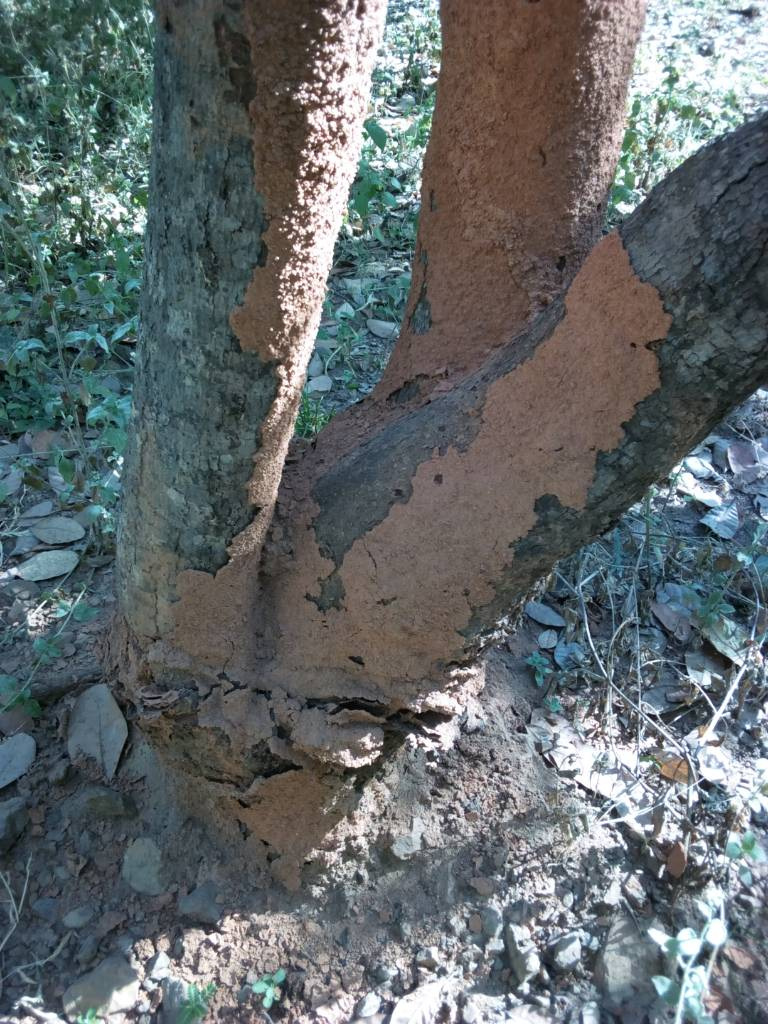Termites: (204, 325, 604, 710), (433, 1, 640, 297), (261, 5, 325, 402)
